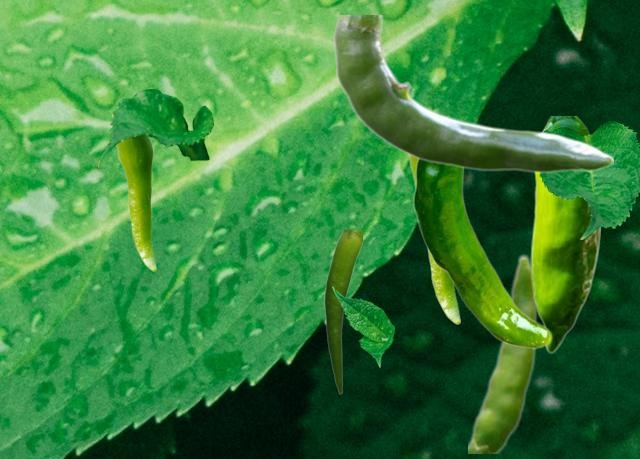green_chili: (333, 15, 612, 172), (413, 160, 551, 348), (530, 116, 599, 352), (468, 253, 537, 452), (408, 156, 459, 323), (112, 114, 155, 270), (324, 230, 361, 393)
